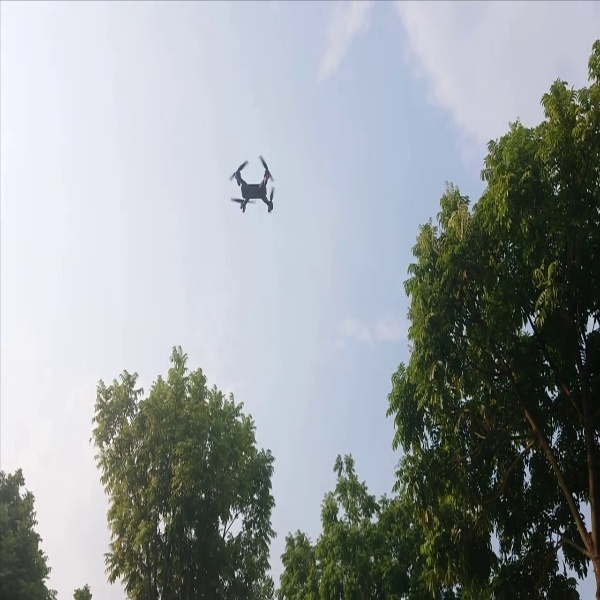drone: (221, 152, 281, 220)
